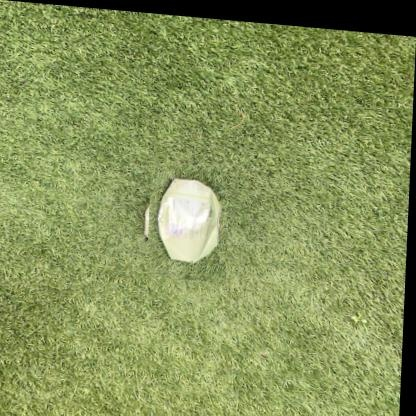trash: (158, 178, 220, 261)
